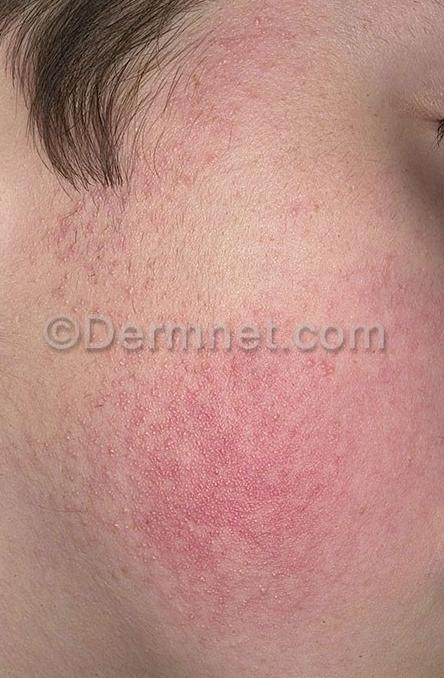Eritema 2: (78, 305, 339, 651)
edema 1: (36, 14, 309, 313), (100, 313, 331, 624)
